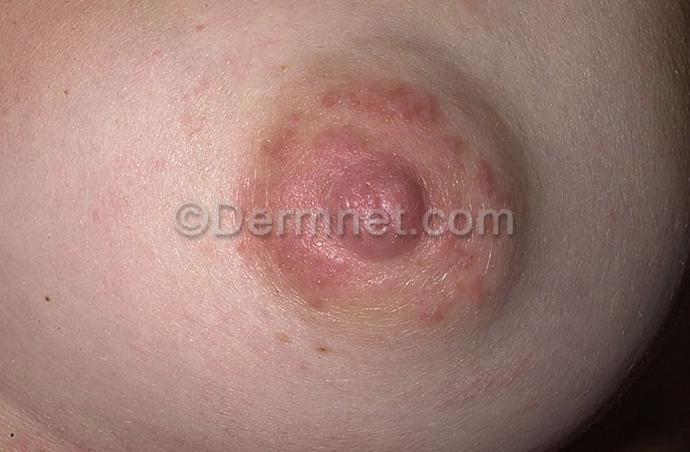Eritema 2: (231, 62, 531, 343)
edema 3: (220, 50, 541, 348)
